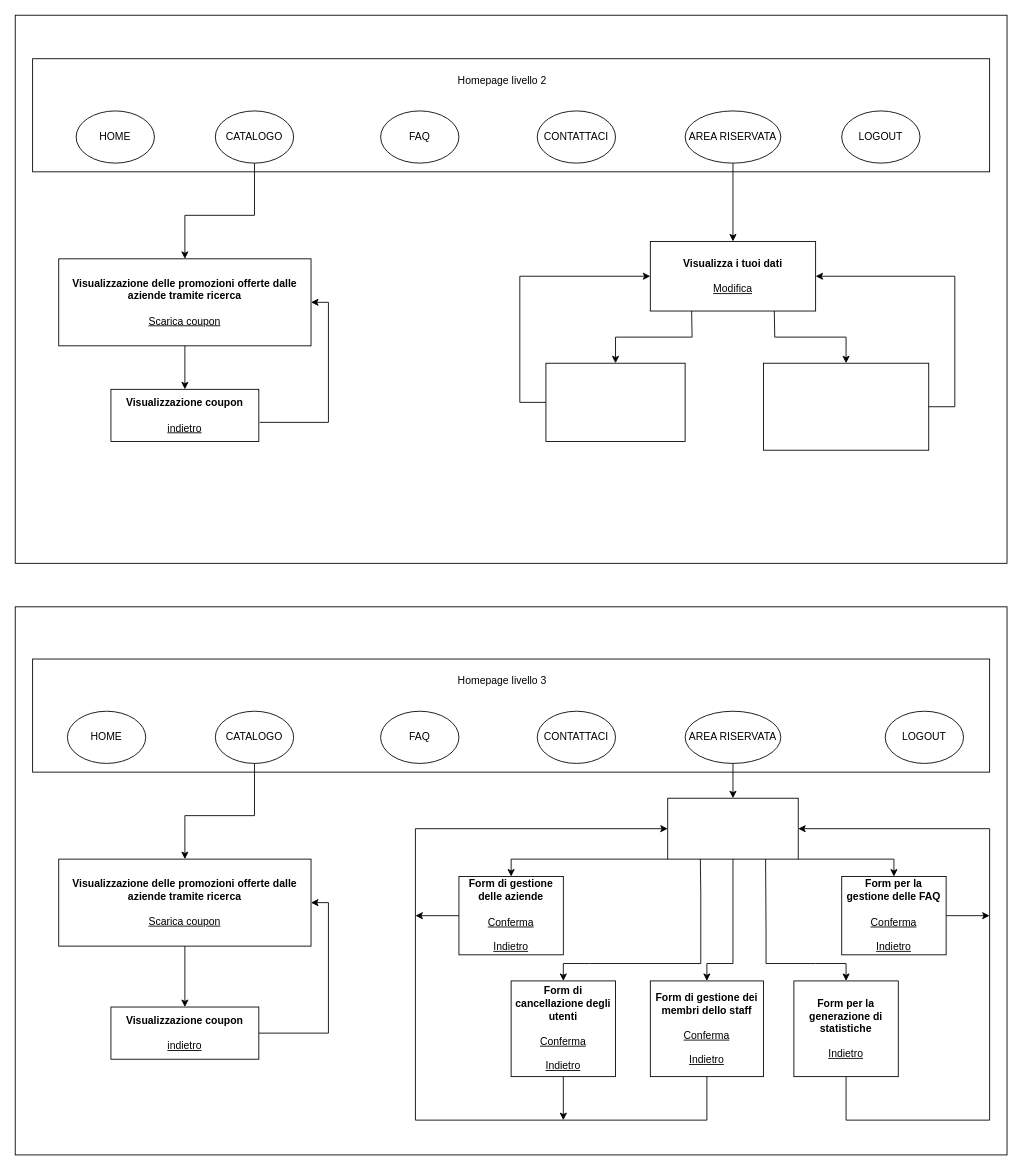
Image size: 1022x1170. Some labels were removed from this diagram. Each missing label, with the centre of its shape:
Form di gestione delle promozioni Conferma Indietro: [846,406]
Form modifica dati utente Conferma indietro: [615,402]
Visualizza i dati del sito Modifica: [732,828]
